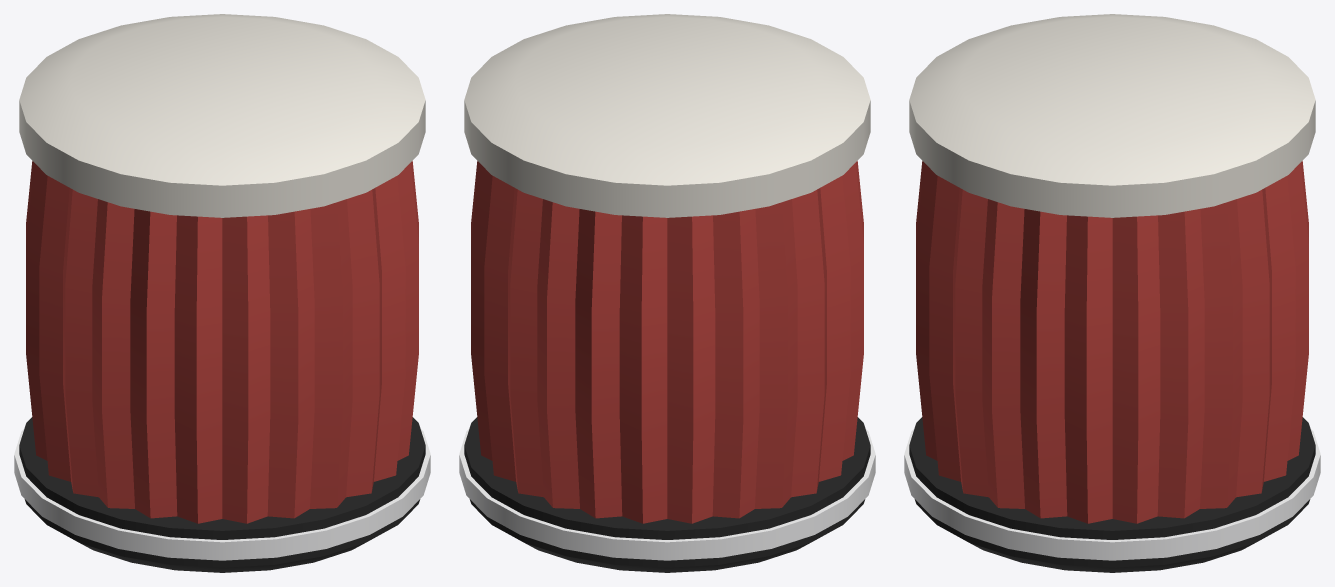
The model's file is pod.glb.
3 views of the same model, side by side, from view 1: azimuth 30°, elevation 25°; view 2: azimuth 150°, elevation 25°; view 3: azimuth 270°, elevation 25° (orthographic).
Parts seen in each view (by area): view 1: lod0; view 2: lod0; view 3: lod0.
Boxes of the visible parts, <box> form: lod0: <box>14,14,430,572</box>; lod0: <box>459,14,875,572</box>; lod0: <box>904,14,1320,572</box>.
Size of what is drawn, in the model's own units: 0.082 by 0.09 by 0.082.
